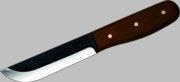knief: (1, 1, 180, 77)
